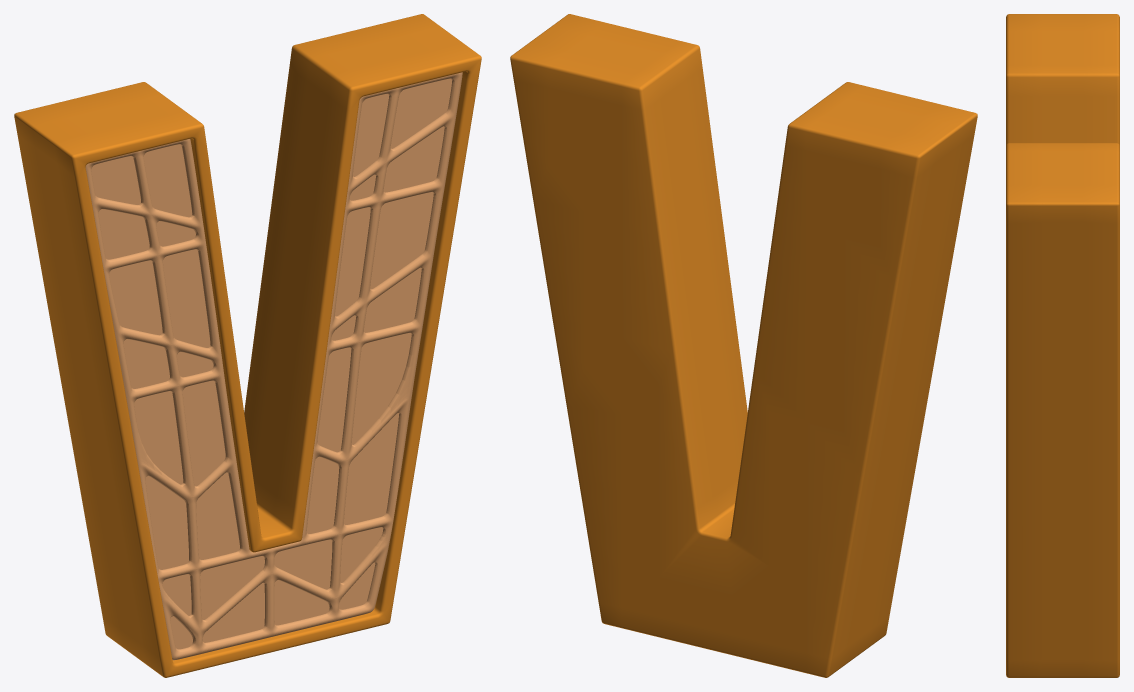
The model's file is V_nuevo.glb.
The picture shows the model from 3 angles, left to right: view 1: azimuth 30°, elevation 25°; view 2: azimuth 150°, elevation 25°; view 3: azimuth 270°, elevation 25°; orthographic projection. The views are drawn at different scales.
Parts seen in each view (by area): view 1: Text.023, Plane.047, Plane.048; view 2: Text.023; view 3: Text.023.
Part boxes in pixels (x1,y1,x2,y2): Text.023: (14, 14, 481, 677); Plane.047: (91, 78, 451, 649); Plane.048: (85, 72, 462, 660); Text.023: (510, 14, 977, 677); Text.023: (1006, 14, 1119, 677).
Size of the model in its own units: 3.61 by 4.59 by 0.9137.
